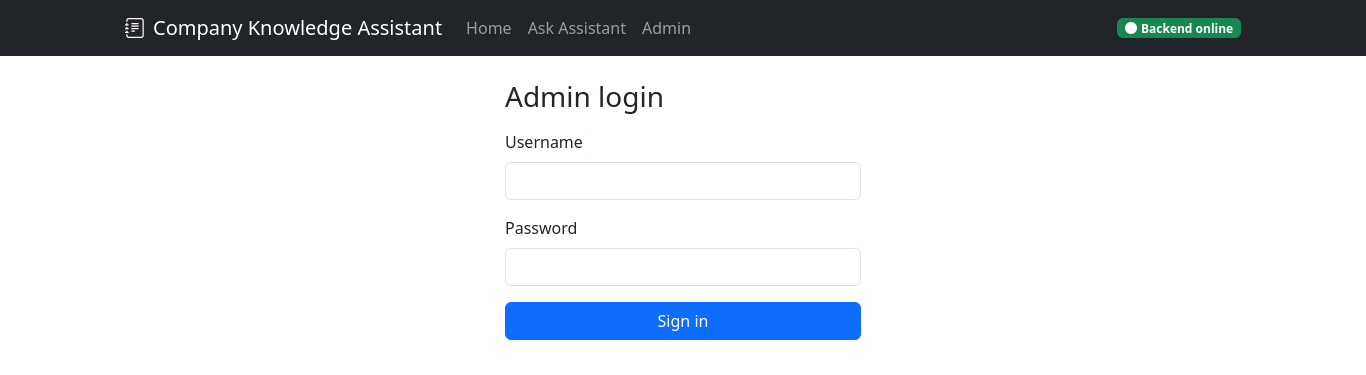
Test: admin panel › logs in and lands on the dashboard with statistics
Type "admin" into the field labelled "Username".
click(683, 181); type("admin")  # box [505,162,861,200]
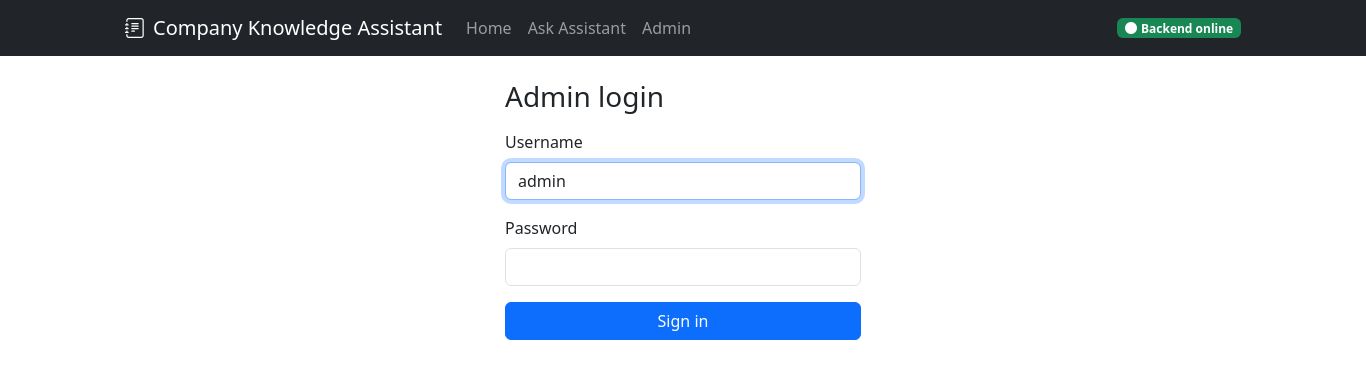
Type "secret" into the password field labelled "Password".
click(683, 267); type("secret")  # box [505,248,861,286]
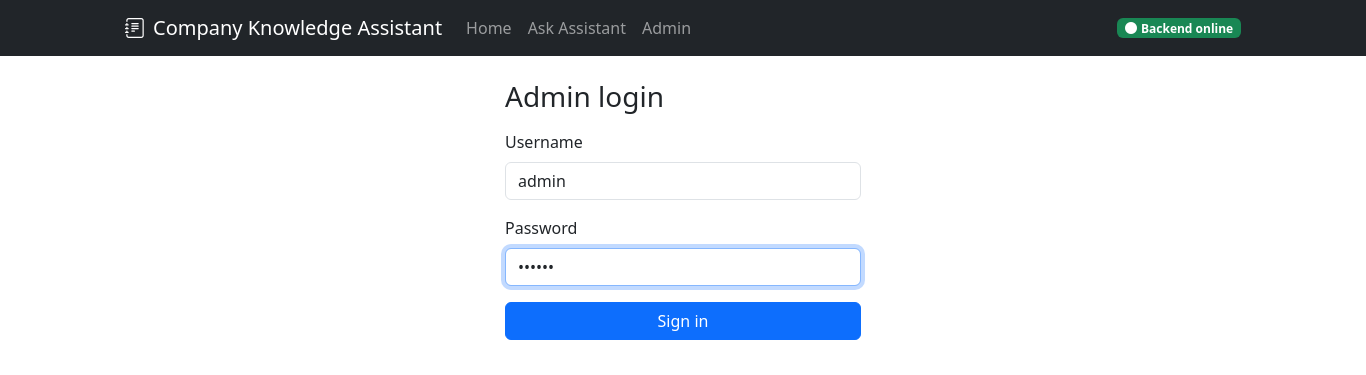
Click the button "Sign in".
click(683, 321)  # box [505,302,861,340]
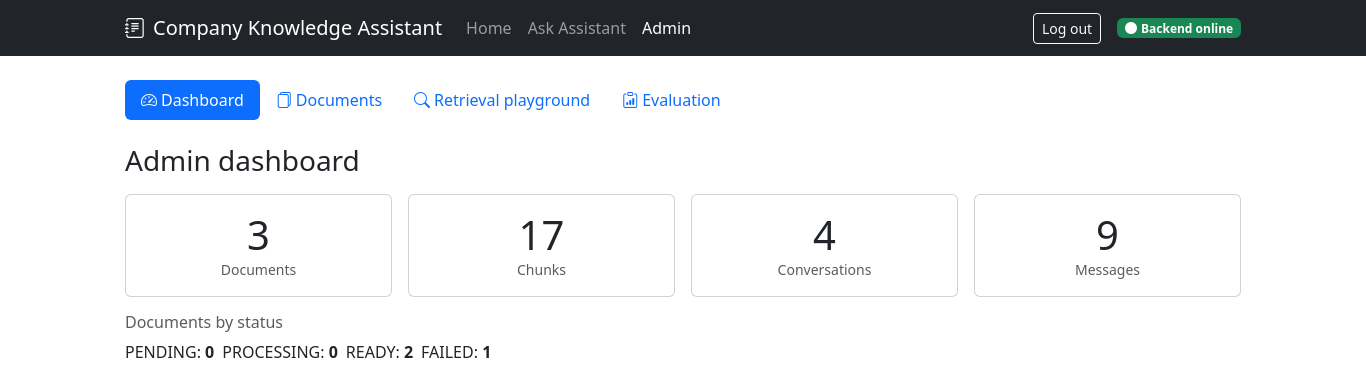
Result: the heading "Admin dashboard" is shown at [125,141,360,179]
Result: the text "17" is shown at [519,207,564,262]
Result: the heading "Documents by status" is shown at [125,311,283,333]
